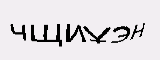И: (64, 20, 88, 46)
Н: (130, 20, 149, 44)
Ч: (9, 21, 28, 40)
Щ: (30, 21, 66, 48)
Э: (111, 23, 131, 50)
Ұ: (83, 20, 112, 49)
